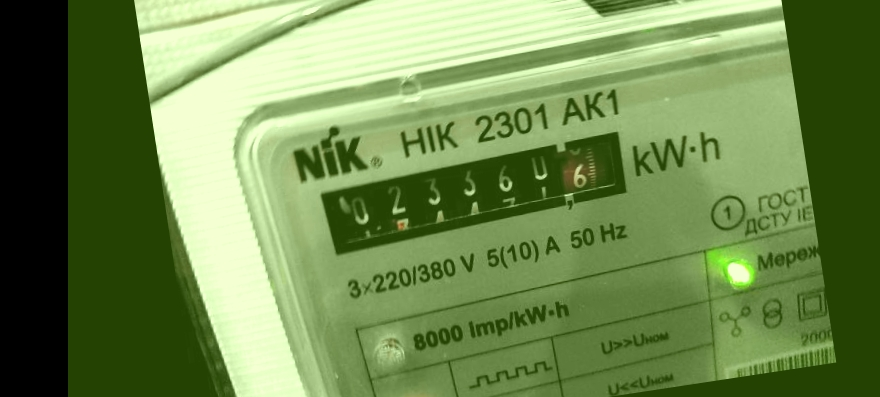0: (346, 190, 373, 227), (525, 149, 552, 183)
2: (384, 180, 409, 216)
3: (456, 162, 480, 198), (420, 174, 443, 207)
6: (491, 159, 517, 194), (567, 156, 592, 192)
screen: (300, 119, 649, 263)
